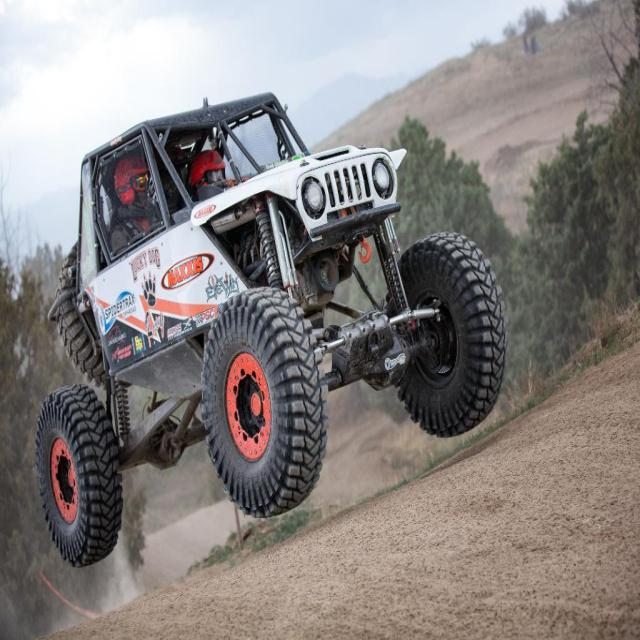car: (35, 121, 508, 566)
